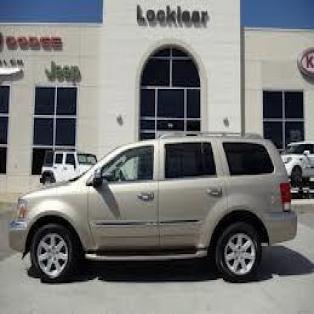Auto: (6, 131, 296, 291)
